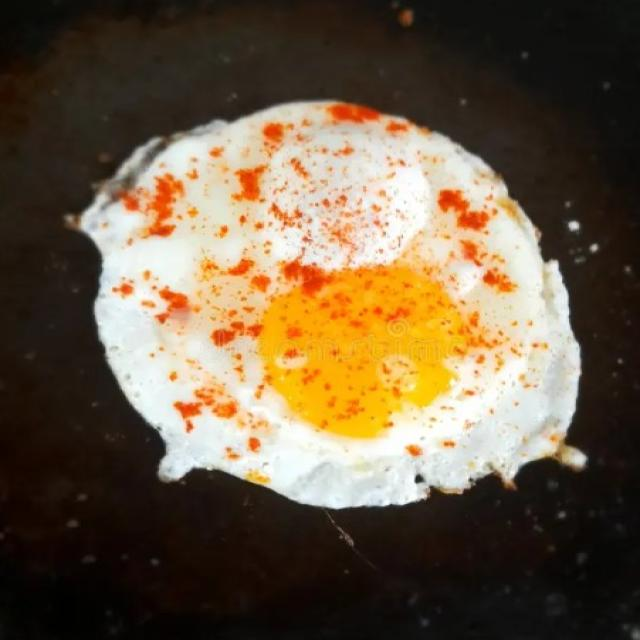EGG: (51, 82, 597, 508)
